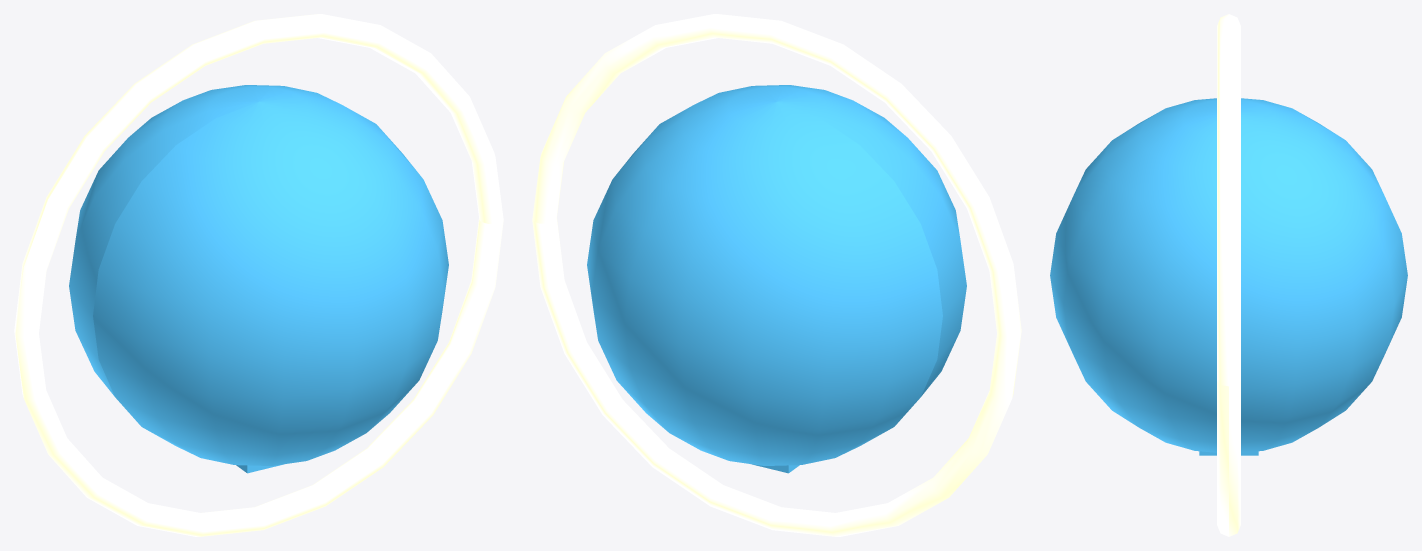
3 views of the same model, side by side, from view 1: azimuth 30°, elevation 25°; view 2: azimuth 150°, elevation 25°; view 3: azimuth 270°, elevation 25° (orthographic). The views are drawn at different scales.
Size of the model in its own units: 0.88 by 0.88 by 0.6.
